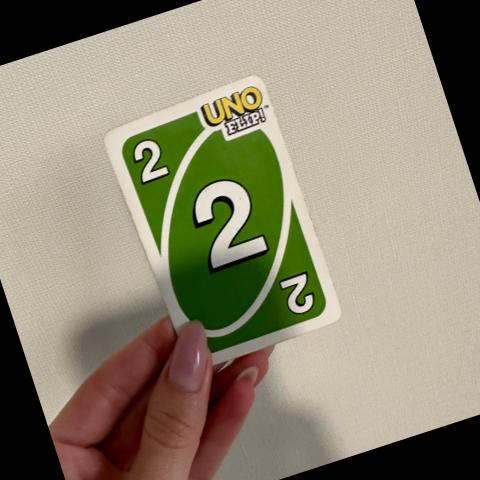lgreen-2: (110, 118, 191, 203)
